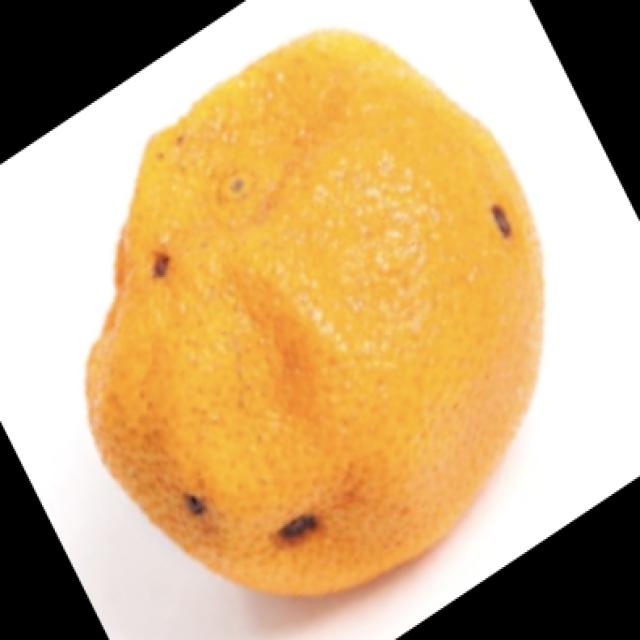sedikit_busuk: (76, 30, 546, 600)
